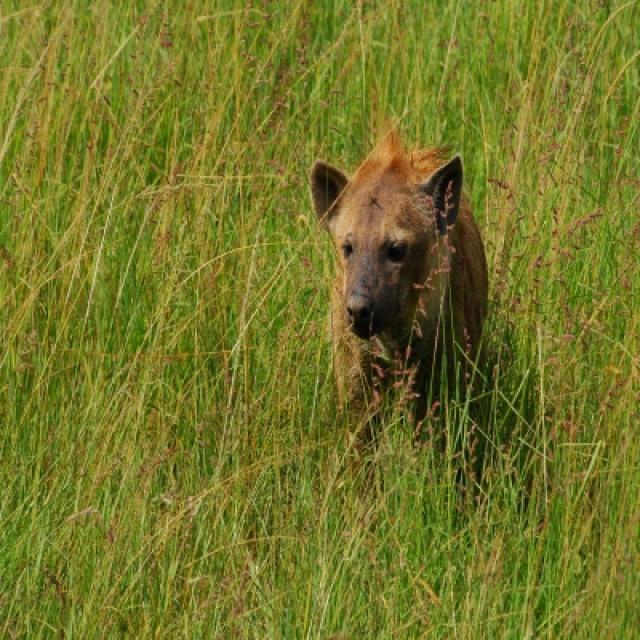hyena: (309, 128, 490, 424)
